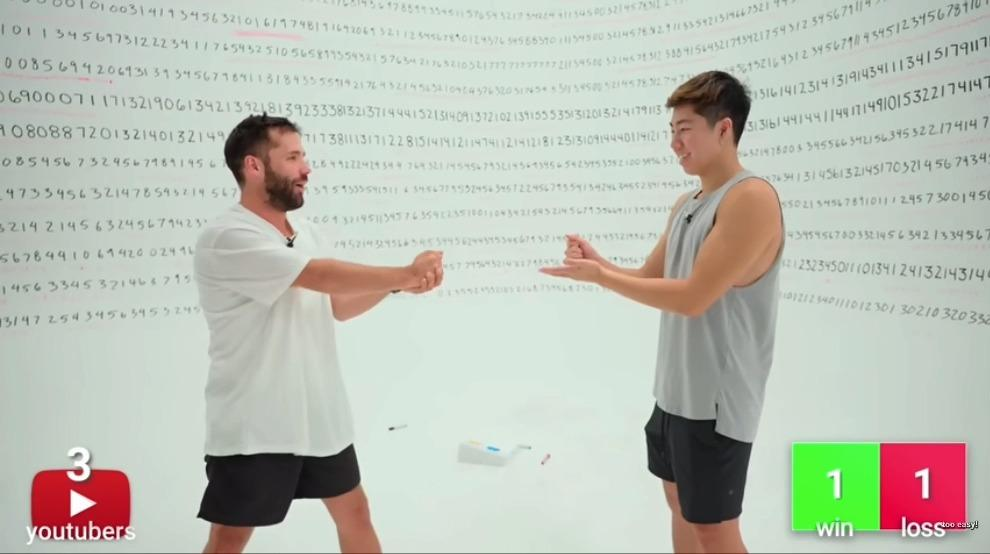Rock: (408, 247, 446, 292), (565, 232, 596, 264)
